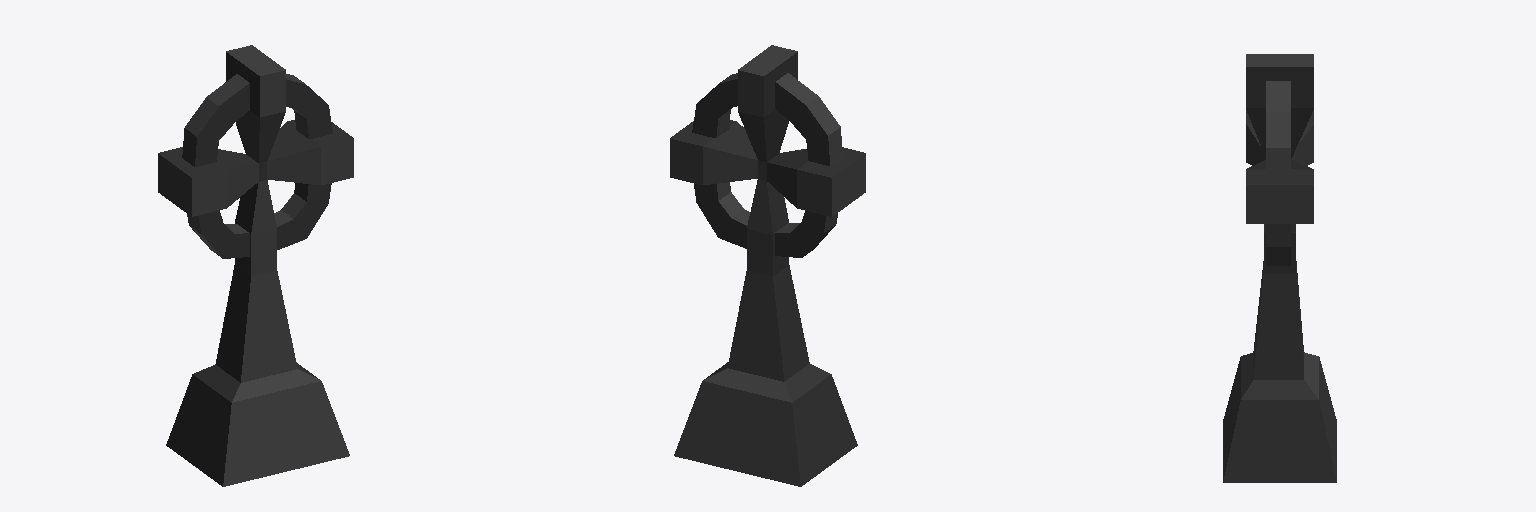
File: zaros_altar2.obj
The picture shows the model from 3 angles: view 1: azimuth 30°, elevation 25°; view 2: azimuth 150°, elevation 25°; view 3: azimuth 270°, elevation 25°; orthographic projection.
Bounding box in the file's own units: 74 × 170 × 45.